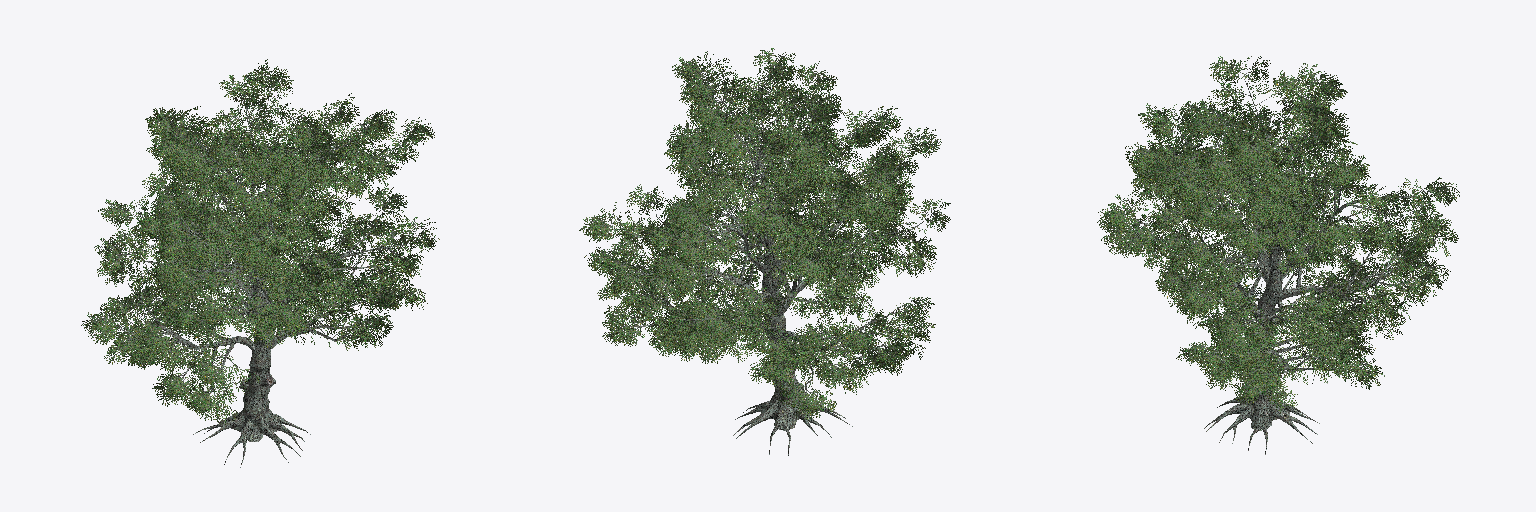
3 renders of one model, left to right at view 1: azimuth 30°, elevation 25°; view 2: azimuth 150°, elevation 25°; view 3: azimuth 270°, elevation 25°, orthographic.
Parts seen in each view (by area): view 1: White_Oak_Hero_14; view 2: White_Oak_Hero_14; view 3: White_Oak_Hero_14.
Boxes of the visible parts, x1=… form: White_Oak_Hero_14: x1=81, y1=59, x2=439, y2=467; White_Oak_Hero_14: x1=579, y1=48, x2=950, y2=455; White_Oak_Hero_14: x1=1097, y1=56, x2=1459, y2=454.
Size of the model in its own units: 750 by 758 by 704.
Materials: 4 (4 with a texture image).